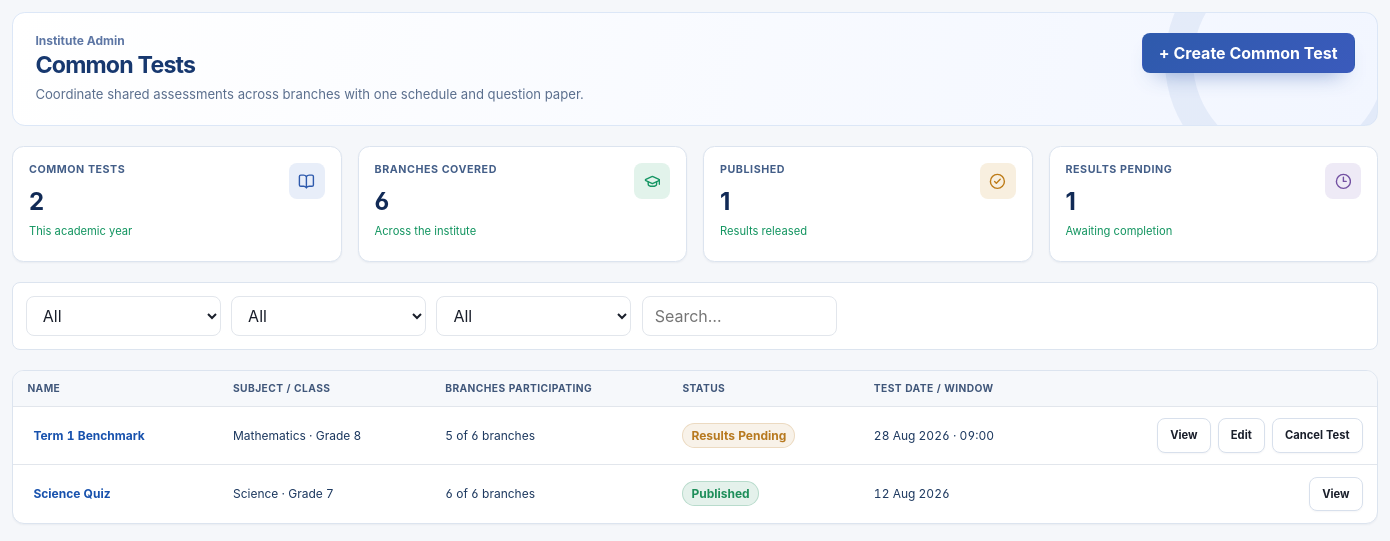
reference operational layouts › opens the common-test creation wizard from its mapped CTA
Click the button "+ Create Common Test" at (1248, 53), box top-left (1142, 33), bottom-right (1355, 73)
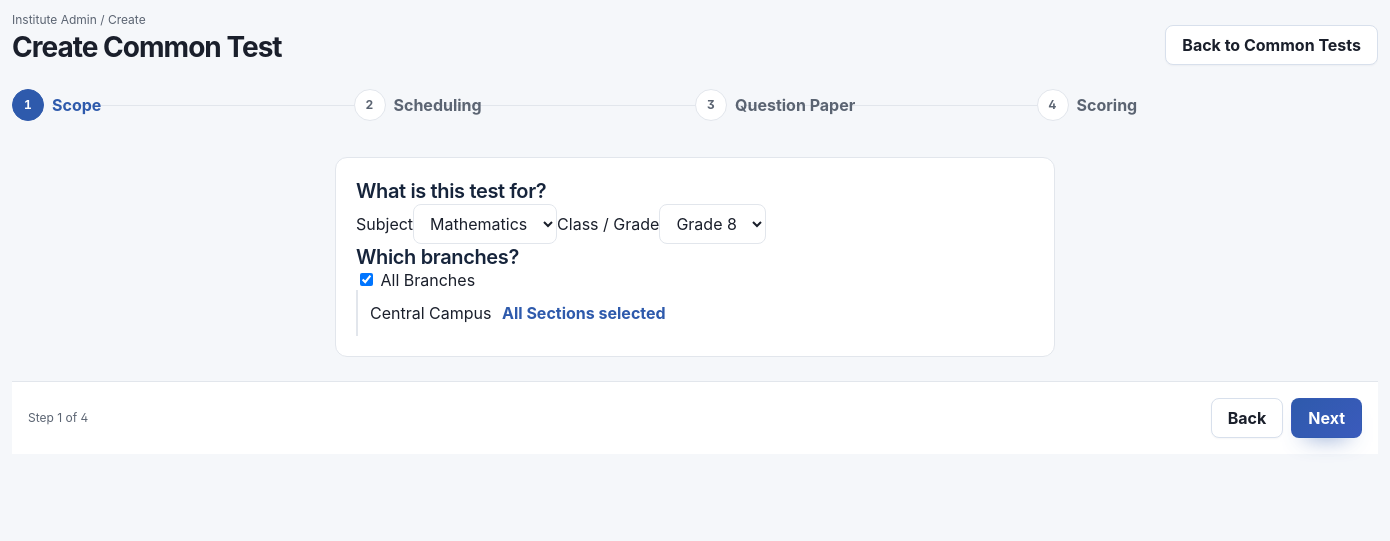
Expected: the heading "Create Common Test" is shown, top-left (12, 31), bottom-right (282, 65)
